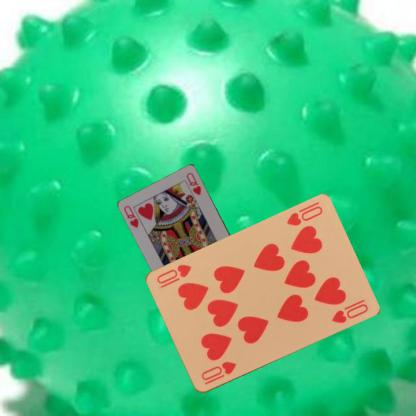10h: (198, 359, 238, 386), (284, 203, 324, 228)
Qh: (121, 203, 140, 229)
